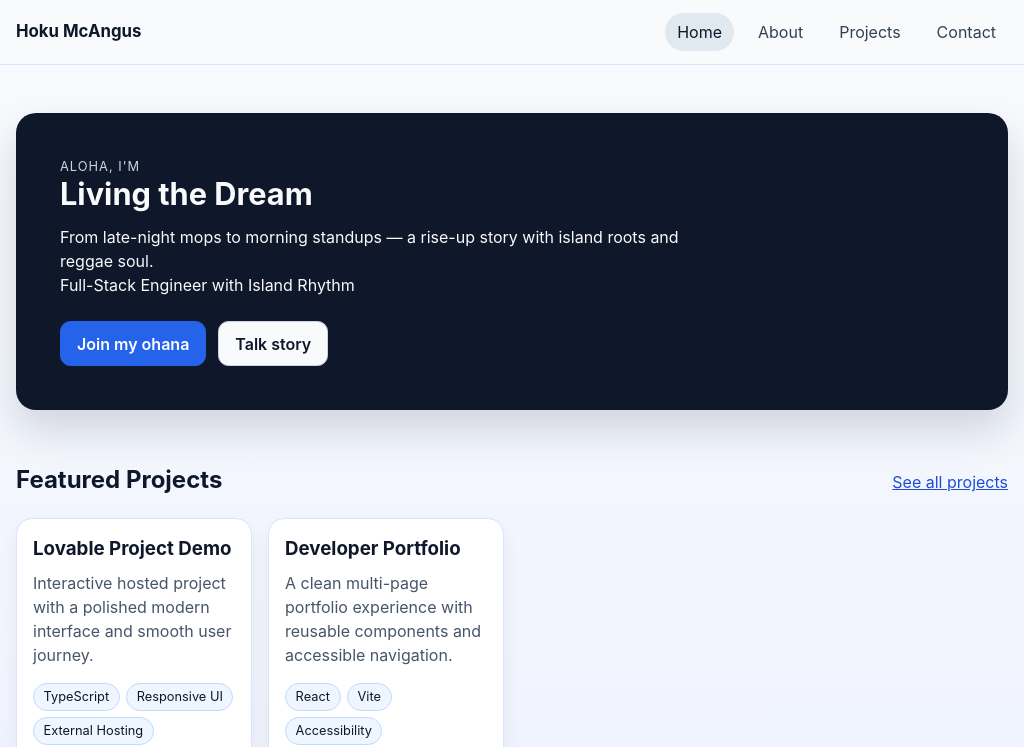
Test: navigates to about page when about link is clicked
The image size is (1024, 747).
Click the link "About". click: (781, 32)
box: x1=758 y1=22 x2=803 y2=42
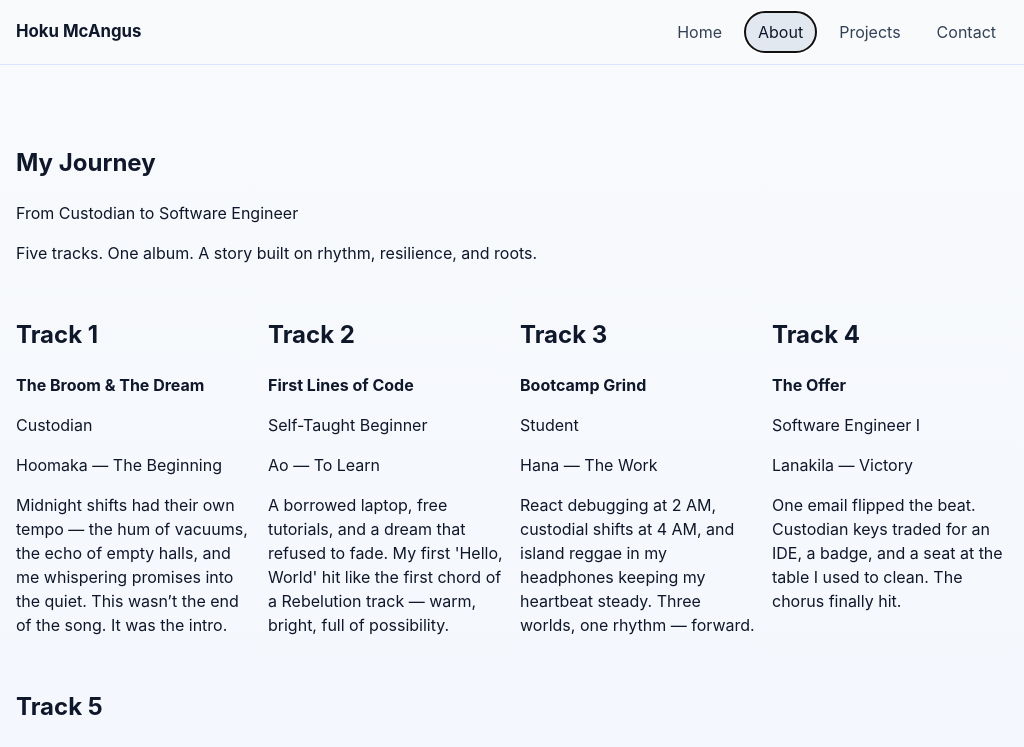
Expected: the heading "My Journey" is shown, x1=16 y1=148 x2=156 y2=177
